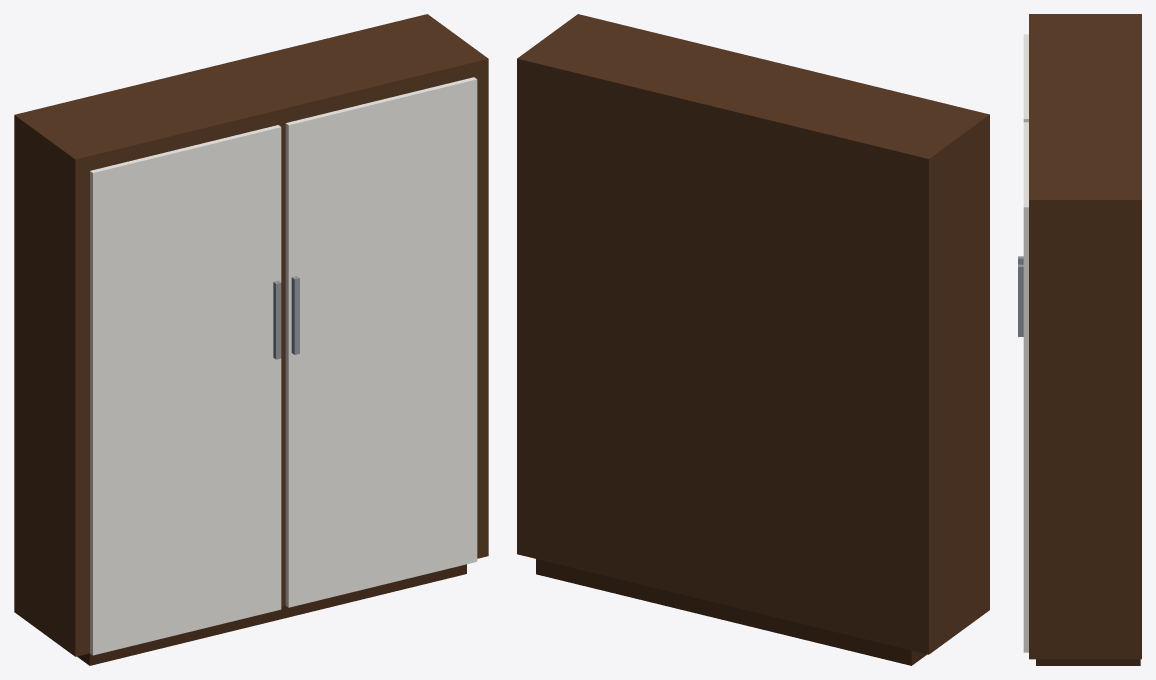
The model's file is cabinet.glb.
3 renders of one model, left to right at view 1: azimuth 30°, elevation 25°; view 2: azimuth 150°, elevation 25°; view 3: azimuth 270°, elevation 25°, orthographic. The views are drawn at different scales.
Parts seen in each view (by area): view 1: material-1-door, material-0-body, material-3-trim, material-4-base, material-2-metal; view 2: material-0-body, material-3-trim, material-4-base; view 3: material-3-trim, material-0-body, material-1-door, material-4-base, material-2-metal.
Part boxes in pixels (<box>): material-1-door: <box>90,77,477,655</box>; material-0-body: <box>19,15,483,655</box>; material-3-trim: <box>14,14,488,656</box>; material-4-base: <box>77,564,466,665</box>; material-2-metal: <box>273,276,299,359</box>; material-0-body: <box>522,15,984,653</box>; material-3-trim: <box>517,14,989,654</box>; material-4-base: <box>536,559,926,665</box>; material-3-trim: <box>1029,14,1141,659</box>; material-0-body: <box>1029,16,1141,197</box>; material-1-door: <box>1023,34,1028,652</box>; material-4-base: <box>1036,659,1140,665</box>; material-2-metal: <box>1018,256,1023,336</box>.
Size of the model in its own units: 1.6 by 1.9 by 0.45.
